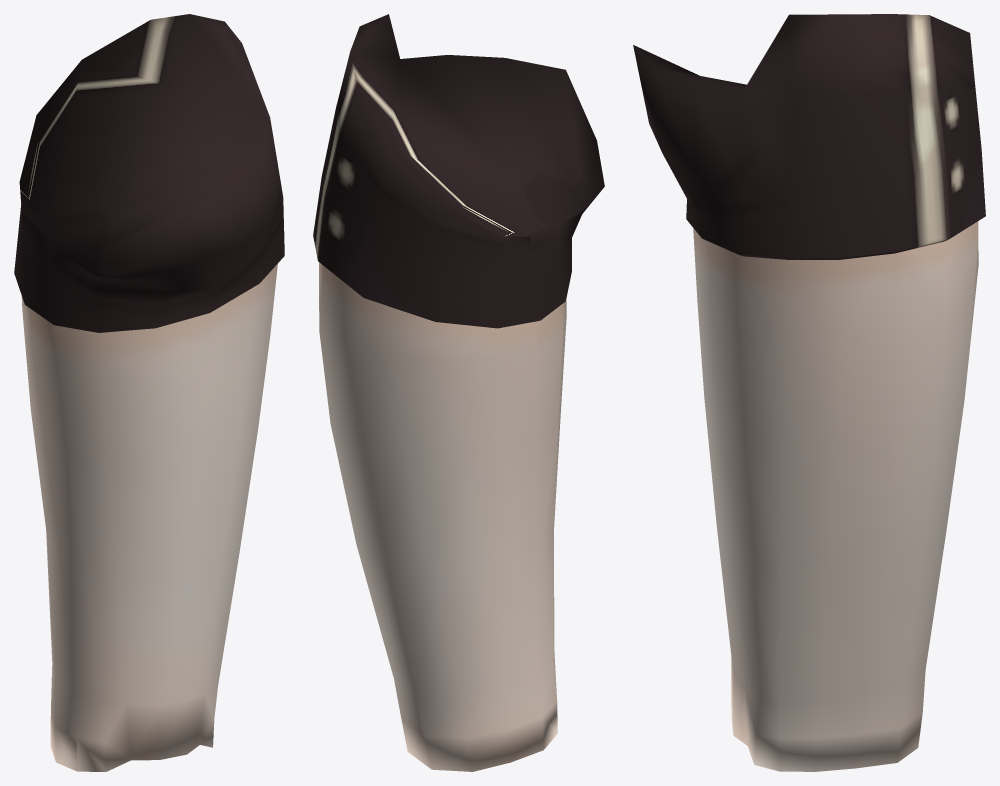
Rendered from hutao_muslo_der.obj.
The picture shows the model from 3 angles, left to right: view 1: azimuth 30°, elevation 25°; view 2: azimuth 150°, elevation 25°; view 3: azimuth 270°, elevation 25°; orthographic projection. The views are drawn at different scales.
Parts seen in each view (by area): view 1: 胡桃_mesh_胡桃.003; view 2: 胡桃_mesh_胡桃.003; view 3: 胡桃_mesh_胡桃.003.
Part boxes in pixels (<box>): 胡桃_mesh_胡桃.003: <box>14,14,284,771</box>; 胡桃_mesh_胡桃.003: <box>313,14,604,771</box>; 胡桃_mesh_胡桃.003: <box>633,14,985,771</box>.
Size of the model in its own units: 1.76 by 5.23 by 2.11.
